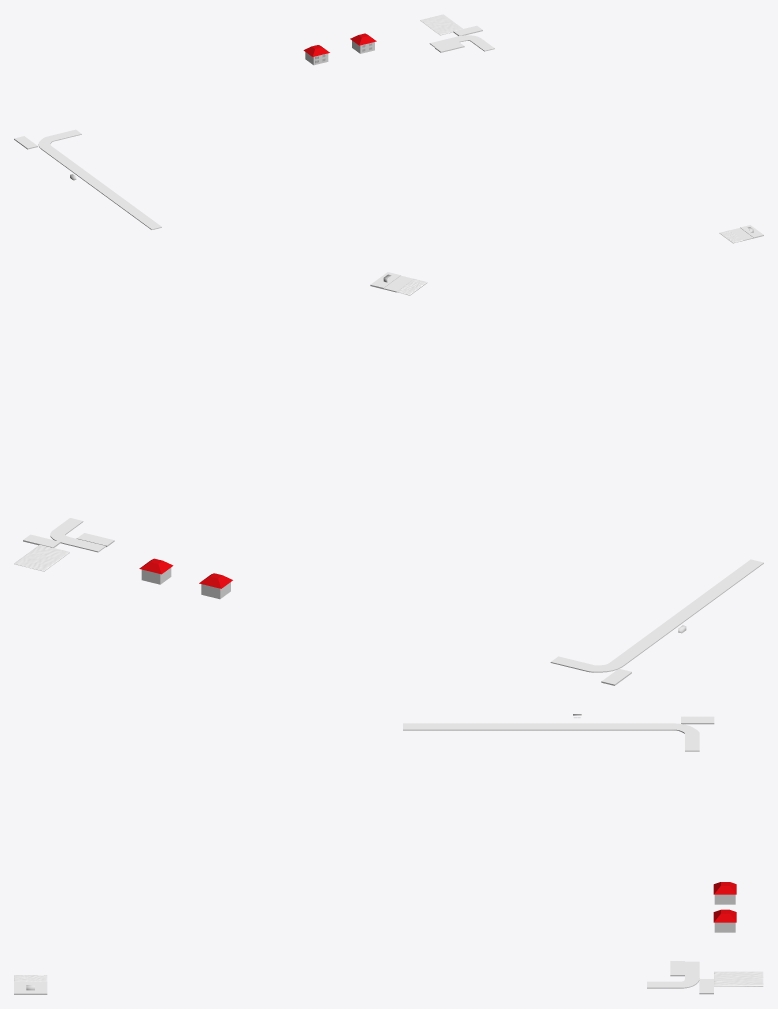
File: city.glb
3 renders of one model, top to bottom at view 1: azimuth 30°, elevation 25°; view 2: azimuth 150°, elevation 25°; view 3: azimuth 270°, elevation 25°, orthographic. The views are drawn at different scales.
Visible parts, largest first — view 1: Plane.008, Plane.007; view 2: Plane.008, Plane.007; view 3: Plane.008, Plane.007, Cube.006, Cube.001.
Boxes of the visible parts, x1,y1,x2,y2 form: Plane.008: (38,129,161,229); Plane.007: (420,14,462,35); Plane.008: (550,559,763,672); Plane.007: (14,544,69,571); Plane.008: (403,723,699,751); Plane.007: (714,971,763,986); Cube.006: (713,909,736,932); Cube.001: (713,882,736,904).
Size of the model in its own units: 315 by 9.35 by 360.
